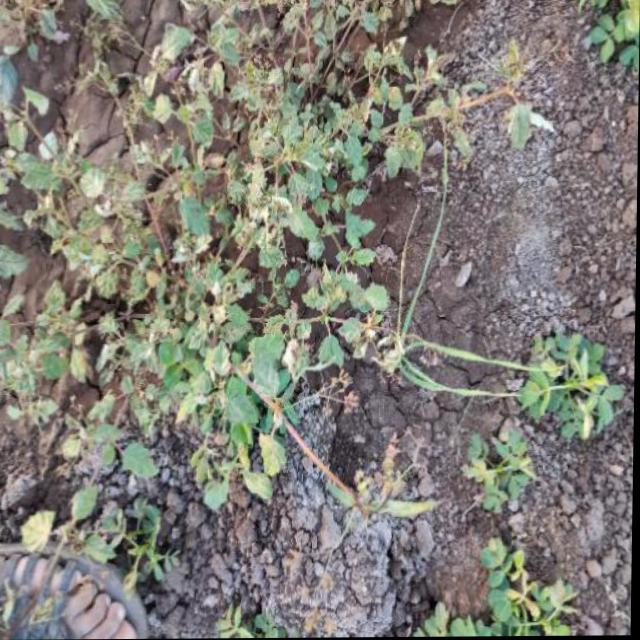weed: (12, 21, 446, 510), (482, 304, 636, 463)
